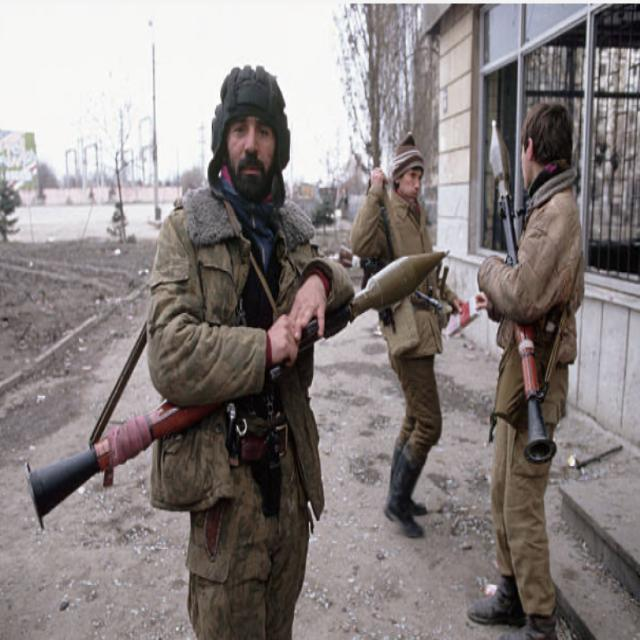bazooka: (21, 247, 451, 540), (487, 116, 560, 467)
